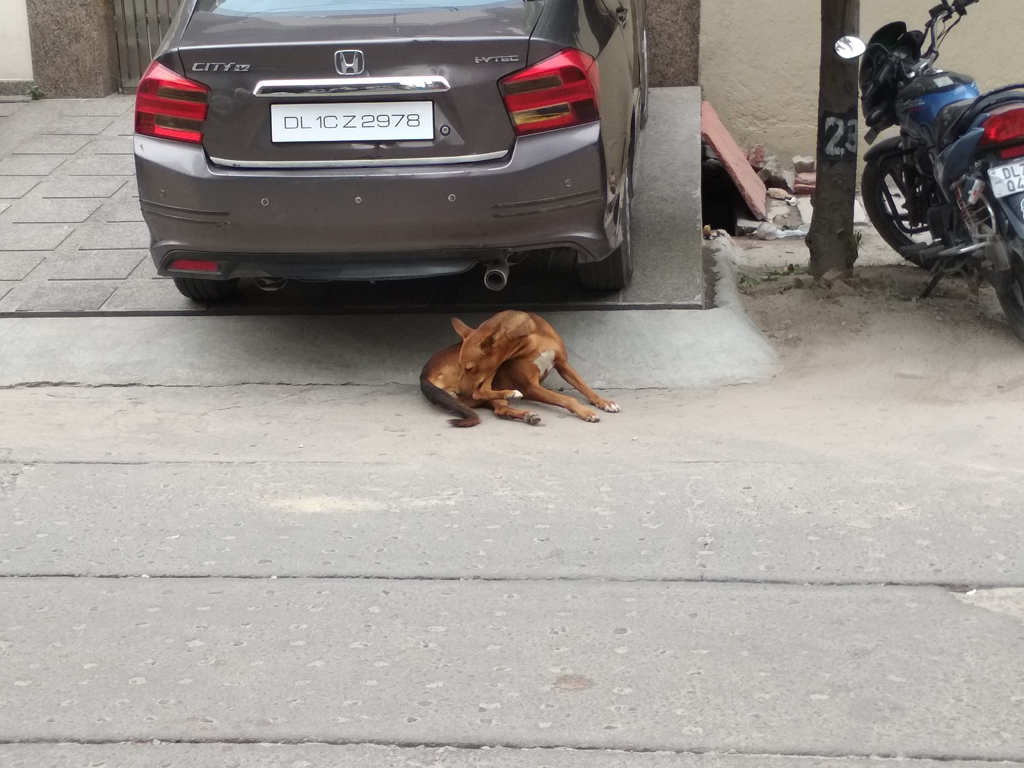dog: (418, 309, 623, 429)
